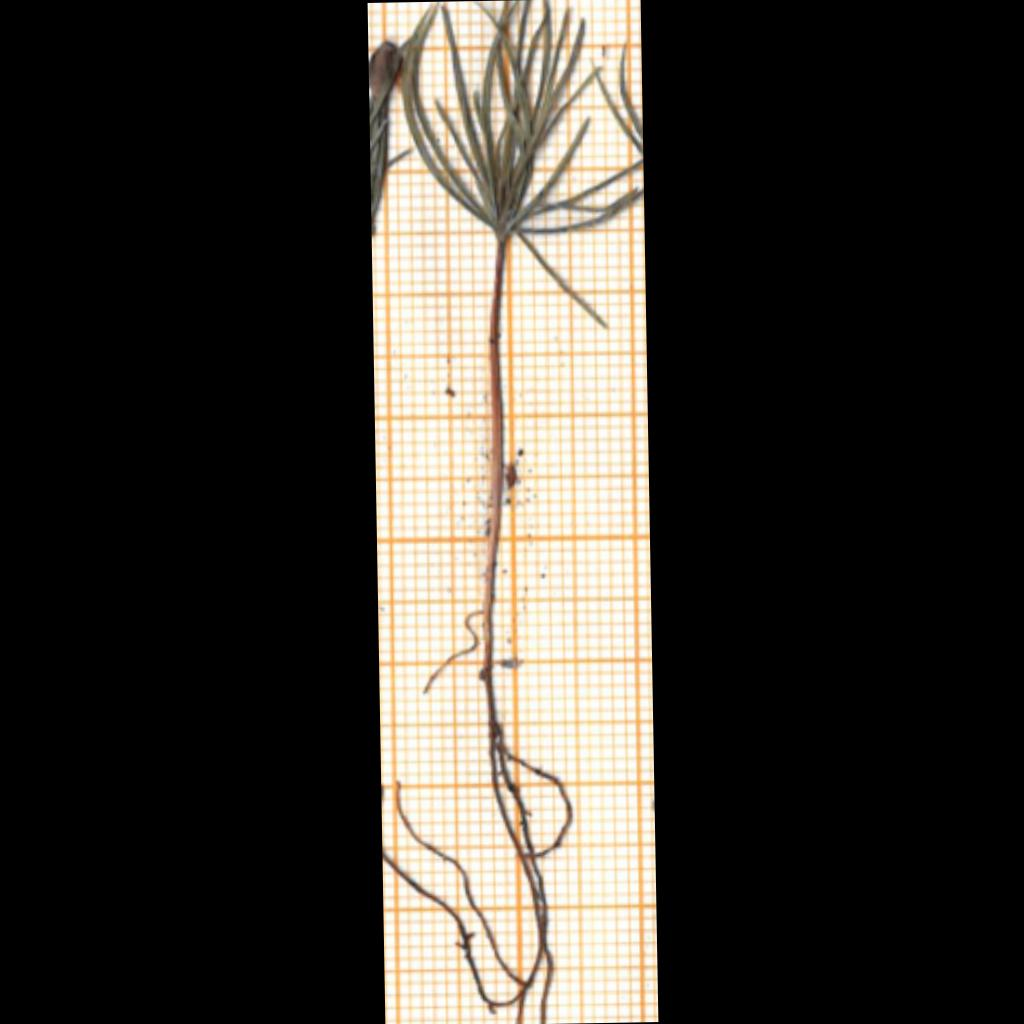flowerPinus: (402, 0, 641, 243)
rootPinus: (382, 675, 572, 1023)
stemPinus: (485, 243, 506, 668)
